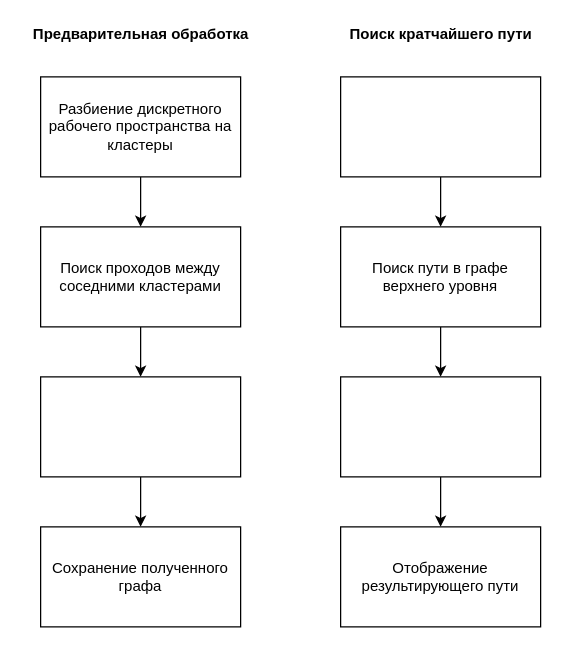
The diagram is 563 pixels wide and 649 high, and some of its shapes have lost their labels. The centre of each missing label's shape, as x and y in pixels:
Восстановление сохраненного иерархического графа: the point at 440,126
Поиск пути между проходами кластеров: the point at 440,426
Построение иерархического графа: the point at 140,426
